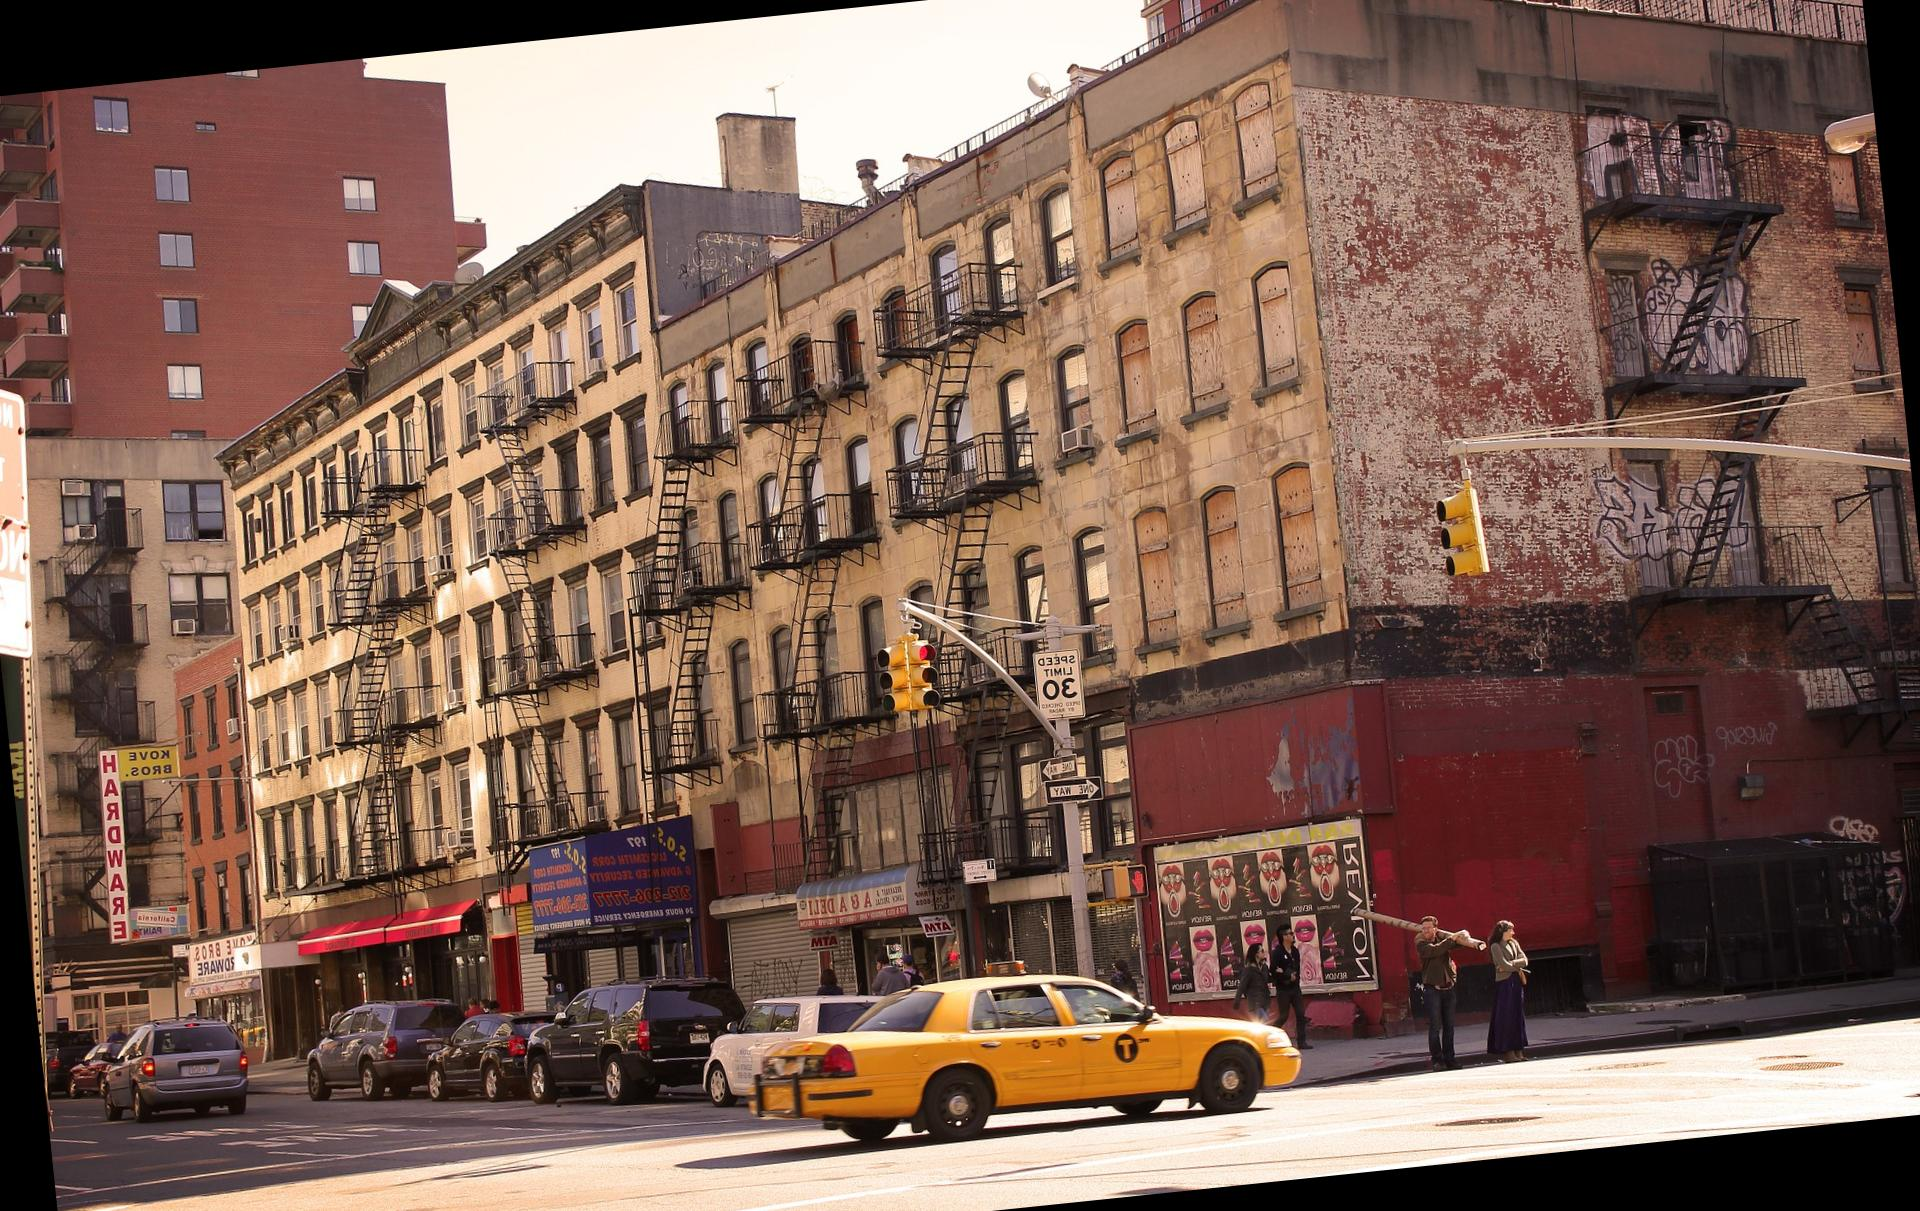taxi: (738, 989, 1298, 1143)
